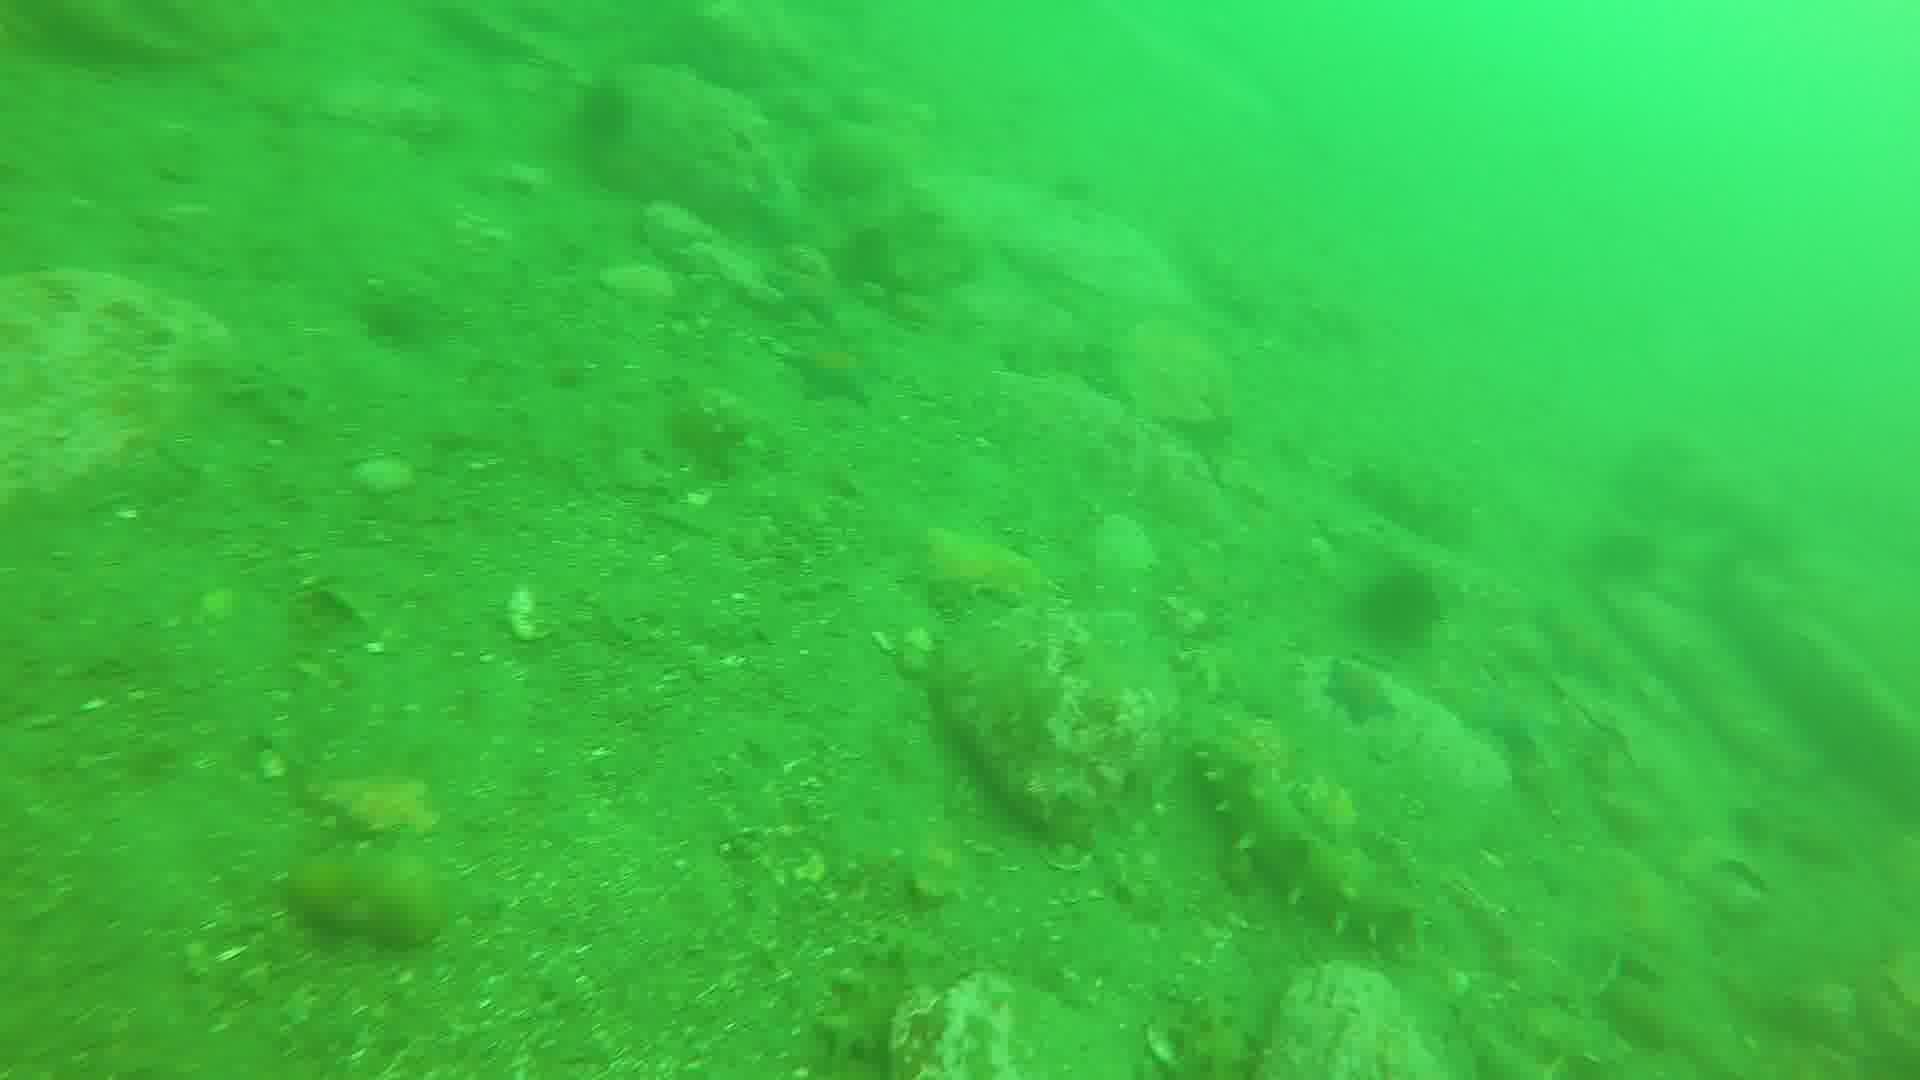holothurian: (1201, 740, 1429, 948)
starfish: (795, 338, 887, 404), (1317, 651, 1389, 729), (1468, 684, 1545, 753)
